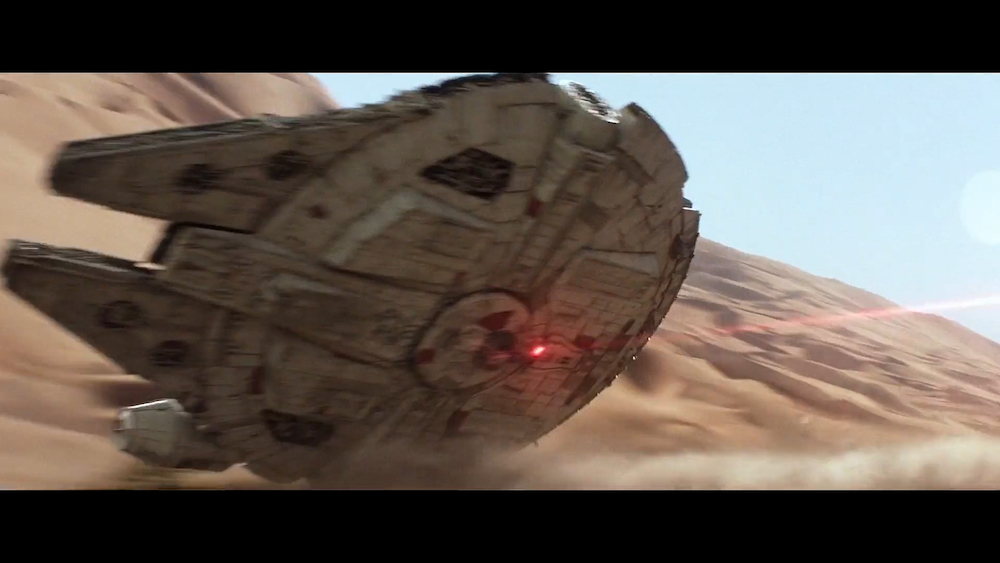Millennium Falcon: (1, 75, 700, 487)
